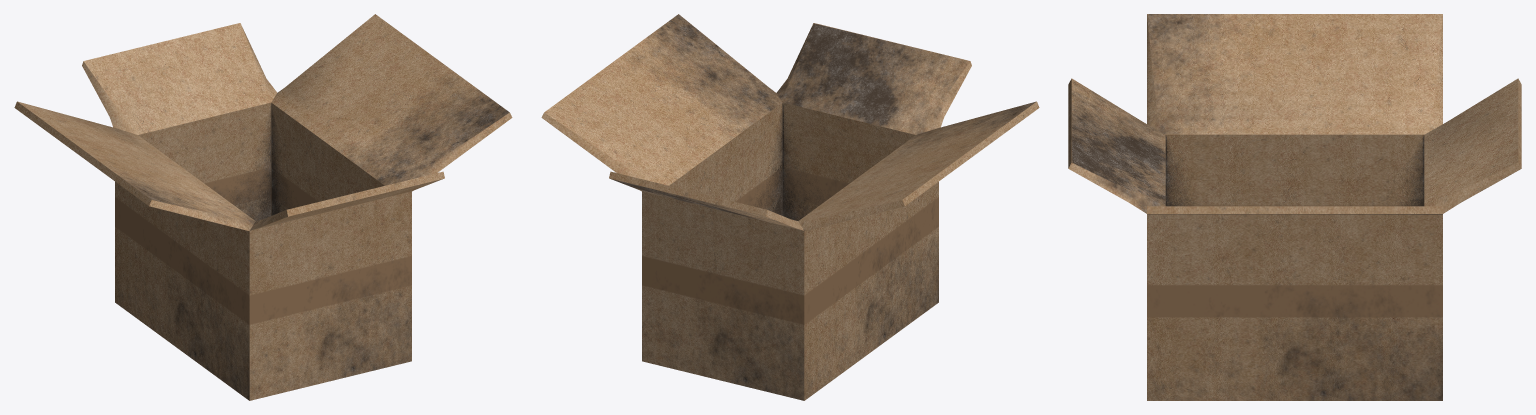
File: BoxOpened.fbx
The picture shows the model from 3 angles, left to right: view 1: azimuth 30°, elevation 25°; view 2: azimuth 150°, elevation 25°; view 3: azimuth 270°, elevation 25°; orthographic projection. The views are drawn at different scales.
Parts seen in each view (by area): view 1: Packing Box; view 2: Packing Box; view 3: Packing Box.
Part boxes in pixels (box(x1,y1,x2,y2)): Packing Box: box(14, 14, 512, 400); Packing Box: box(541, 14, 1039, 400); Packing Box: box(1068, 14, 1521, 400).
Size of the model in its own units: 63.61 by 37.62 by 62.49.
